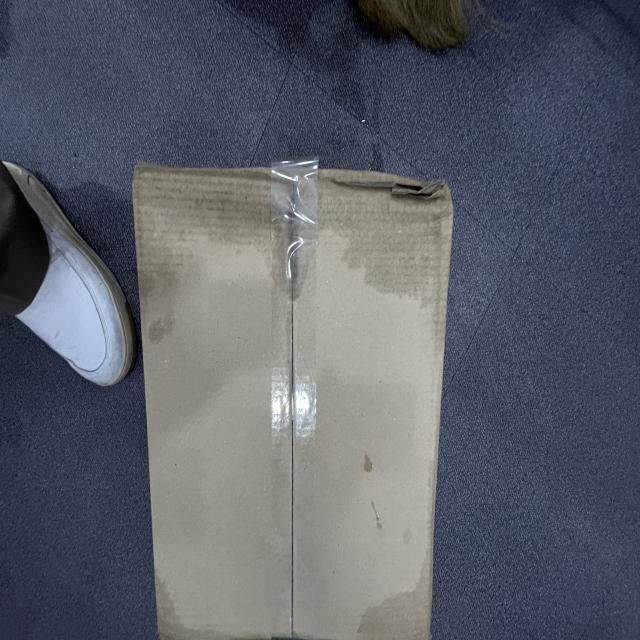wet: (149, 169, 447, 313), (366, 574, 432, 640)
